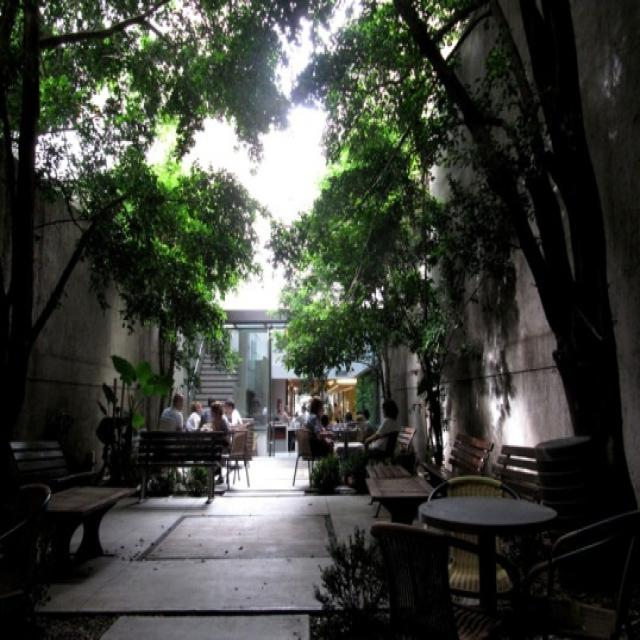body: (348, 398, 401, 488), (157, 391, 188, 485), (302, 396, 337, 461), (208, 401, 231, 486), (200, 396, 226, 467), (270, 393, 309, 431), (324, 392, 354, 429), (348, 410, 380, 444), (220, 399, 244, 434), (184, 399, 203, 433)
